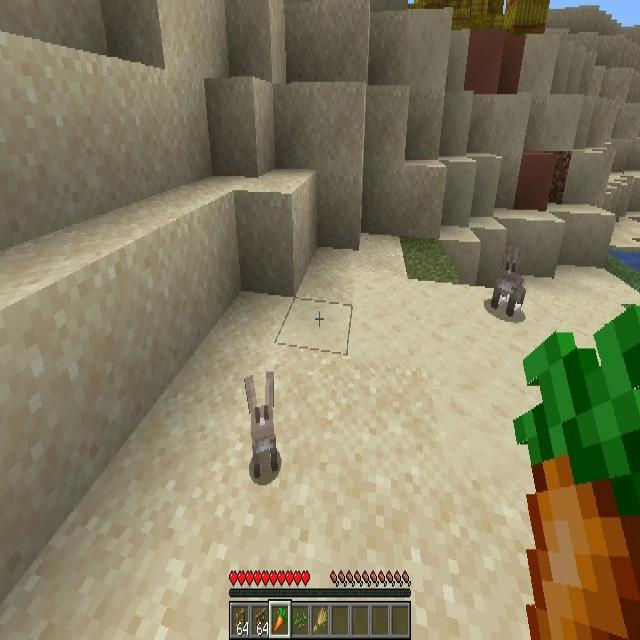rabbit: (245, 372, 277, 476), (491, 243, 526, 317)
